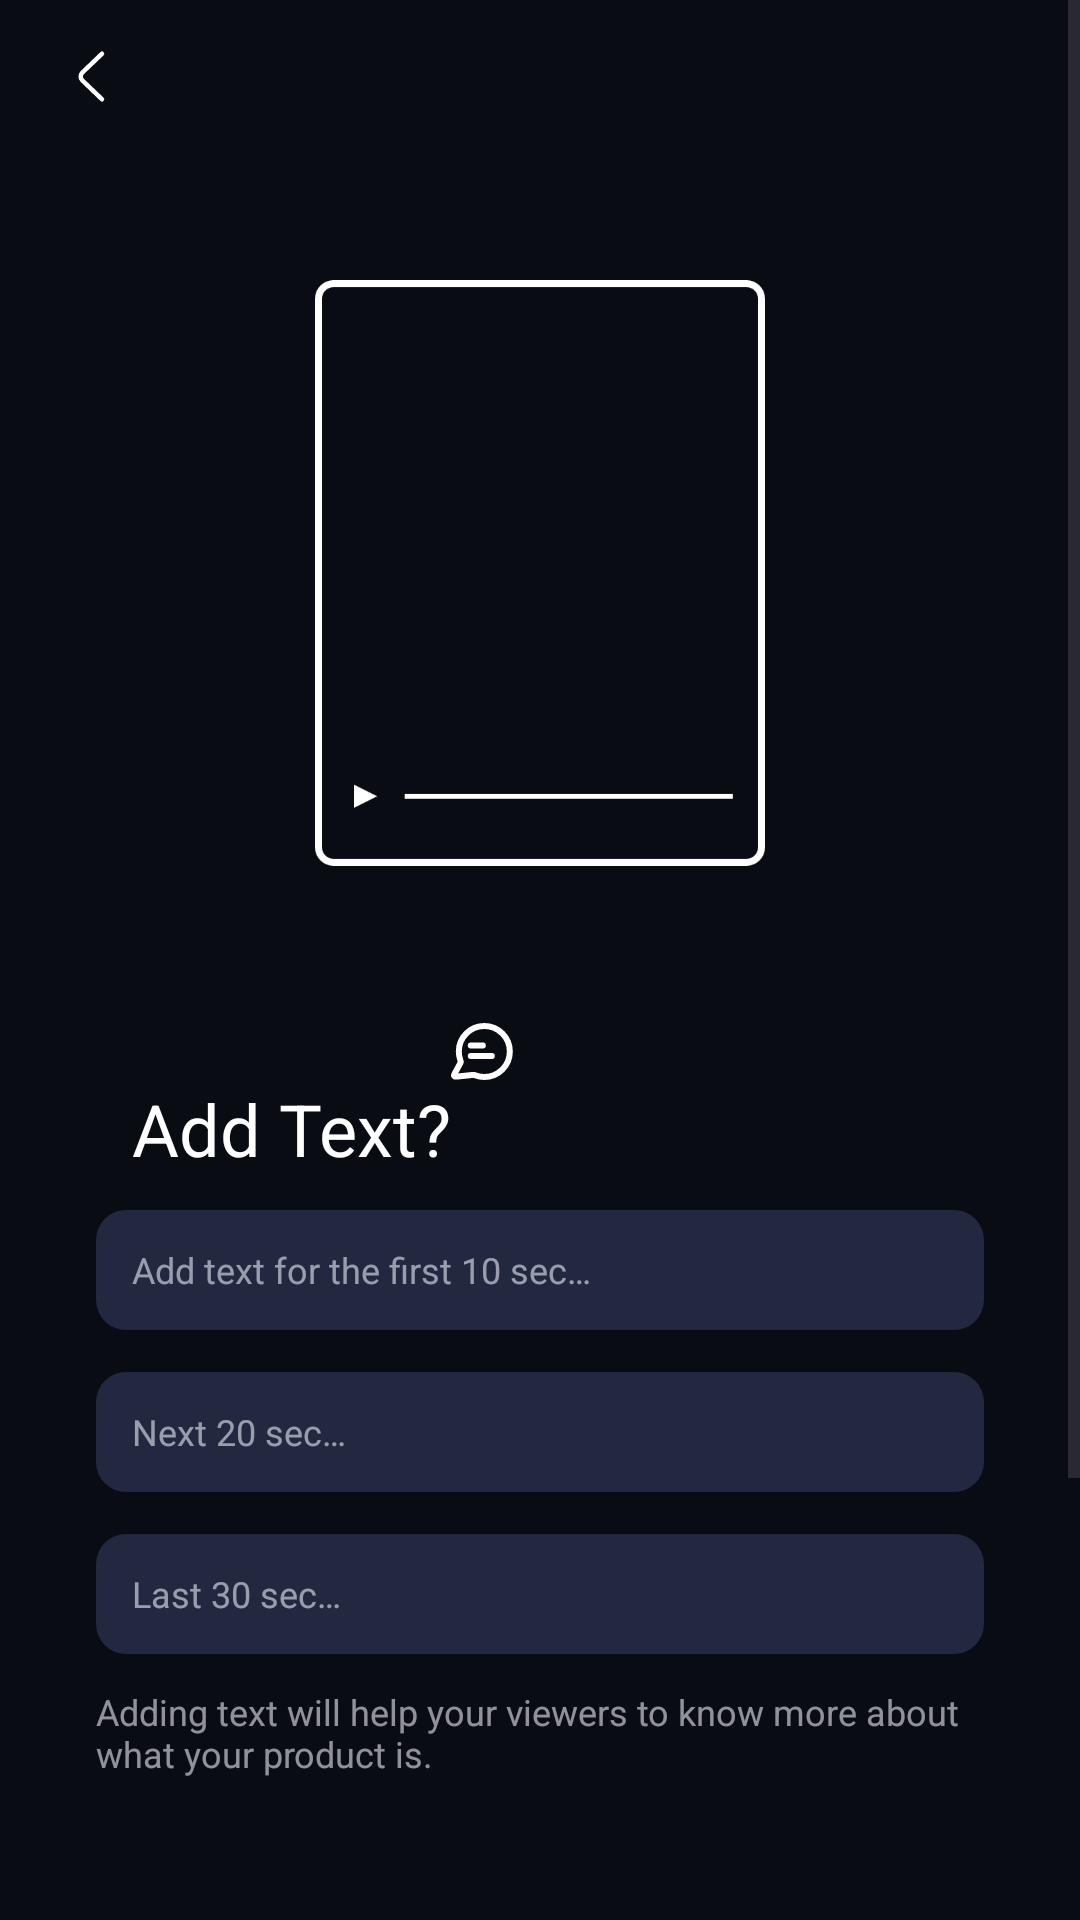

Named icons in this screenshot (1080px×1920px) and their bounding boxes, (x1, y1, x2, y2):
back arrow: (78, 51, 105, 102)
